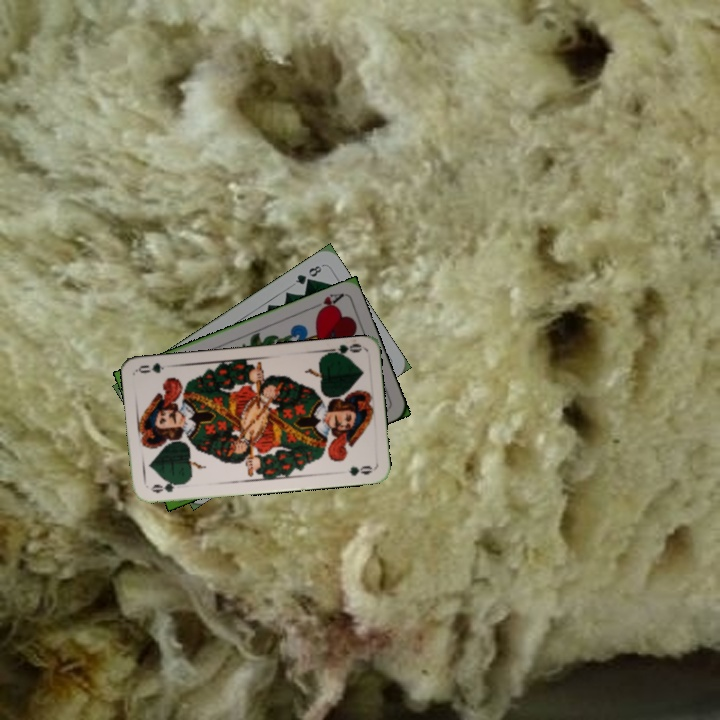G8: (291, 261, 324, 287)
GO: (323, 339, 364, 360), (147, 477, 186, 496)
HA: (307, 289, 346, 316)
